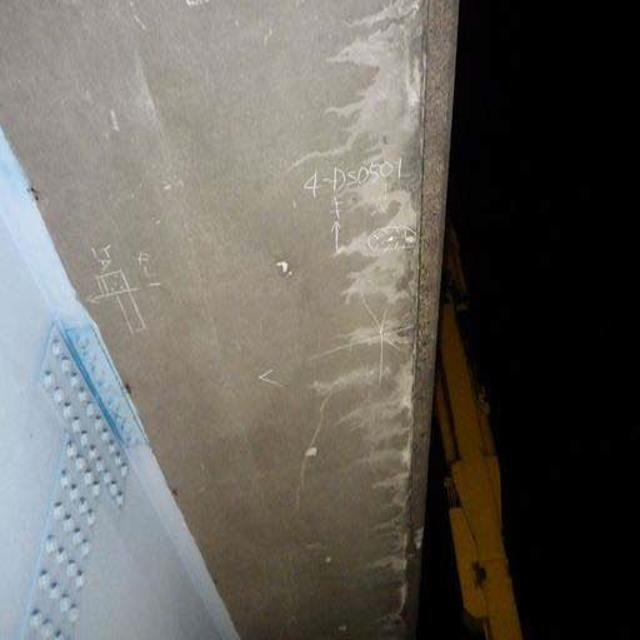freelime: (332, 13, 432, 551)
